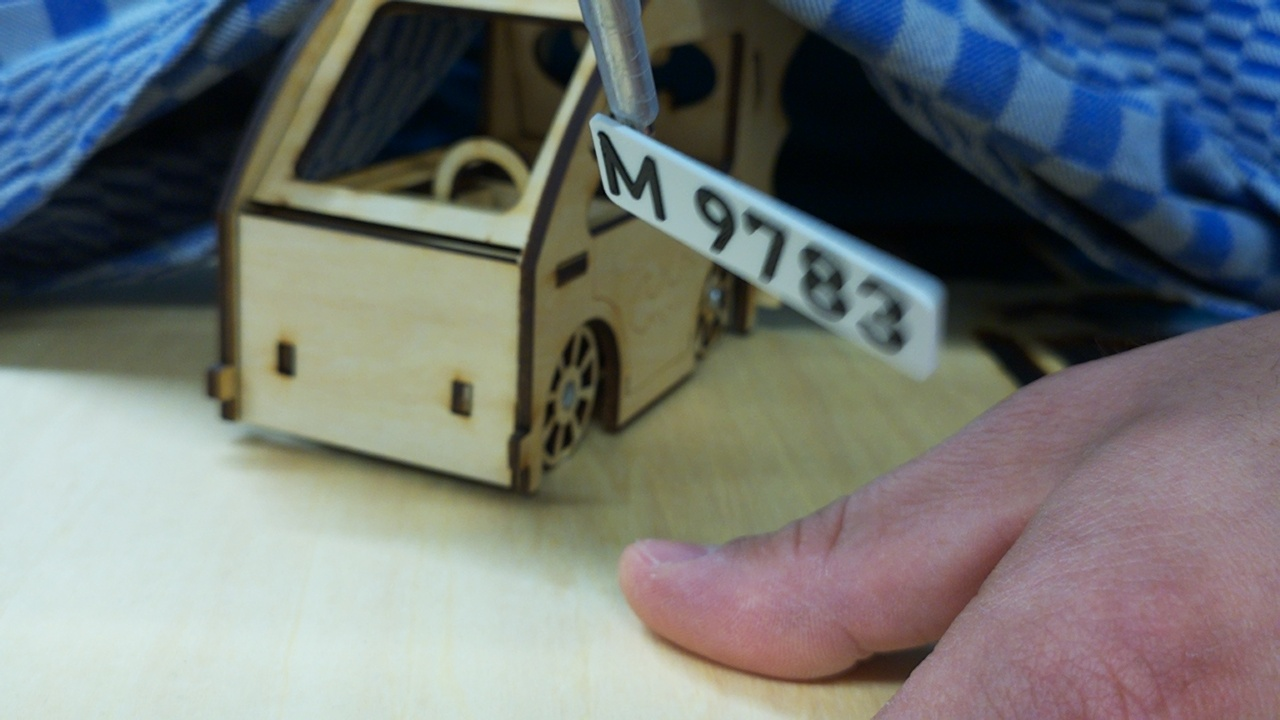license_plate: (587, 110, 946, 386)
